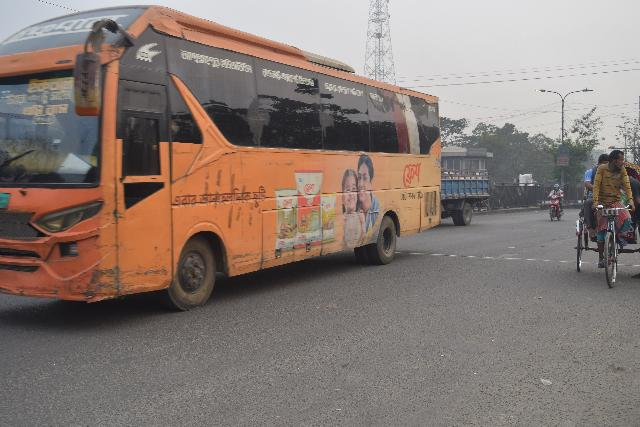bus: (4, 36, 467, 267)
motorcycle: (544, 185, 569, 225)
truck: (440, 156, 500, 225)
